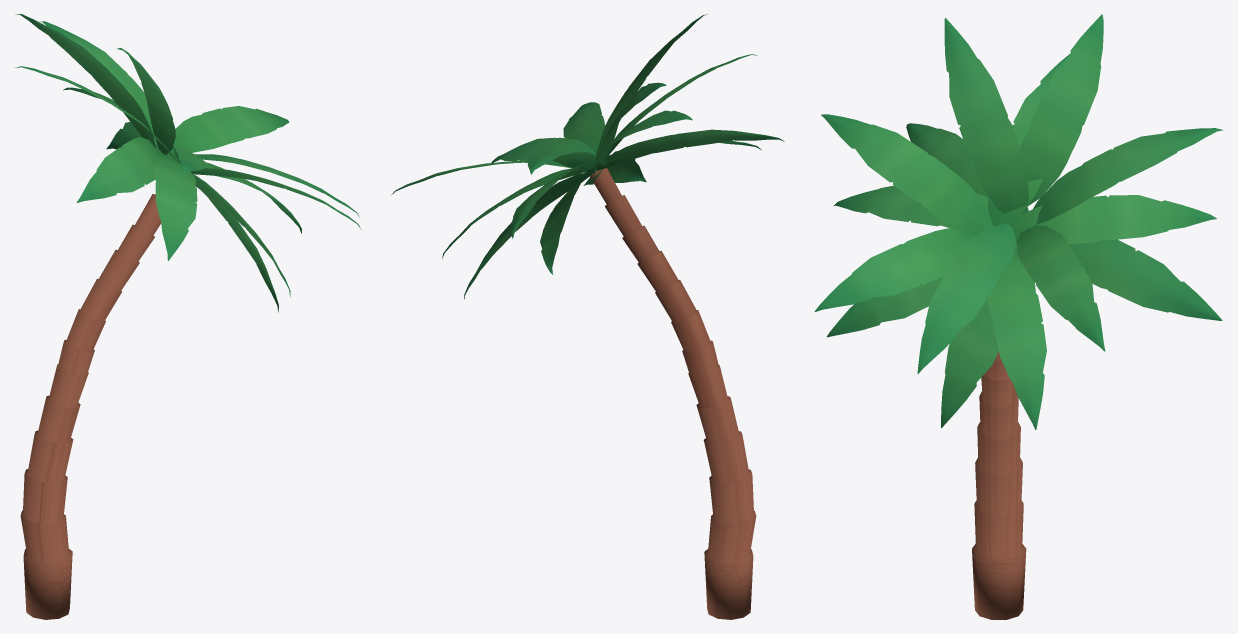
File: Palmtree.glb
3 renders of one model, left to right at view 1: azimuth 30°, elevation 25°; view 2: azimuth 150°, elevation 25°; view 3: azimuth 270°, elevation 25°, orthographic. The views are drawn at different scales.
Visible parts, largest first — view 1: Trunk, Leaf.013, Leaf.012, Leaf.010, Leaf.005, Leaf.007, Leaf.011, Leaf.008, Leaf.014, Leaf.009, Leaf.004, Leaf.002 (+1 smaller); view 2: Trunk, Leaf.010, Leaf.004, Leaf.014, Leaf.006, Leaf.008, Leaf.007, Leaf.011, Leaf.005, Leaf.001, Leaf, Leaf.009 (+2 smaller); view 3: Trunk, Leaf.007, Leaf.002, Leaf.005, Leaf.014, Leaf.003, Leaf.001, Leaf.006, Leaf.004, Leaf.011, Leaf.013, Leaf.008 (+4 smaller).
Part boxes in pixels (<box>): Trunk: <box>20,194,161,619</box>; Leaf.013: <box>168,106,289,153</box>; Leaf.012: <box>154,153,197,260</box>; Leaf.010: <box>76,137,161,202</box>; Leaf.005: <box>15,14,156,148</box>; Leaf.007: <box>117,48,175,154</box>; Leaf.011: <box>39,21,157,145</box>; Leaf.008: <box>201,190,278,312</box>; Leaf.014: <box>169,154,359,217</box>; Leaf.009: <box>193,174,290,296</box>; Leaf.004: <box>191,168,360,228</box>; Leaf.002: <box>172,144,213,174</box>; Trunk: <box>590,168,756,619</box>; Leaf.010: <box>584,129,784,172</box>; Leaf.004: <box>563,102,605,155</box>; Leaf.014: <box>491,137,595,165</box>; Leaf.006: <box>464,171,594,299</box>; Leaf.008: <box>540,173,592,274</box>; Leaf.007: <box>594,14,707,172</box>; Leaf.011: <box>527,151,596,174</box>; Leaf.005: <box>597,82,666,165</box>; Leaf.001: <box>510,162,586,238</box>; Leaf: <box>596,110,692,158</box>; Leaf.009: <box>583,151,646,185</box>; Trunk: <box>972,352,1026,619</box>; Leaf.007: <box>944,18,1028,214</box>; Leaf.002: <box>821,114,993,234</box>; Leaf.005: <box>1020,14,1103,206</box>; Leaf.014: <box>917,224,1016,373</box>; Leaf.003: <box>987,247,1046,429</box>; Leaf.001: <box>1010,195,1216,244</box>; Leaf.006: <box>1068,239,1222,320</box>; Leaf.004: <box>814,228,975,311</box>; Leaf.011: <box>1033,128,1222,224</box>; Leaf.013: <box>1017,225,1105,351</box>; Leaf.008: <box>941,243,1017,428</box>.
Bounding box in the file's own units: 5.77 × 9.99 × 6.02.
1 material, 1 textured.
